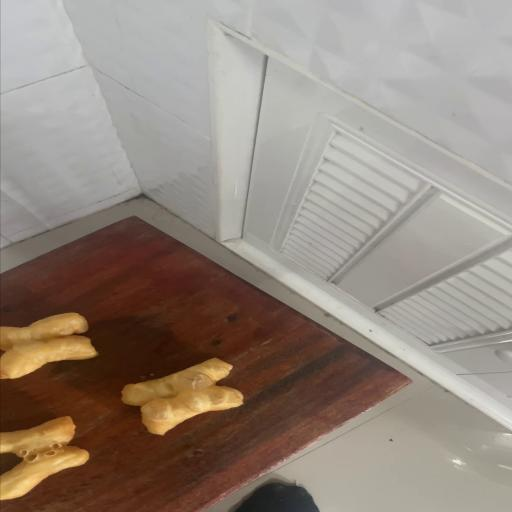street_golden_defect: (120, 359, 245, 434)
street_golden_good: (2, 313, 98, 378)
